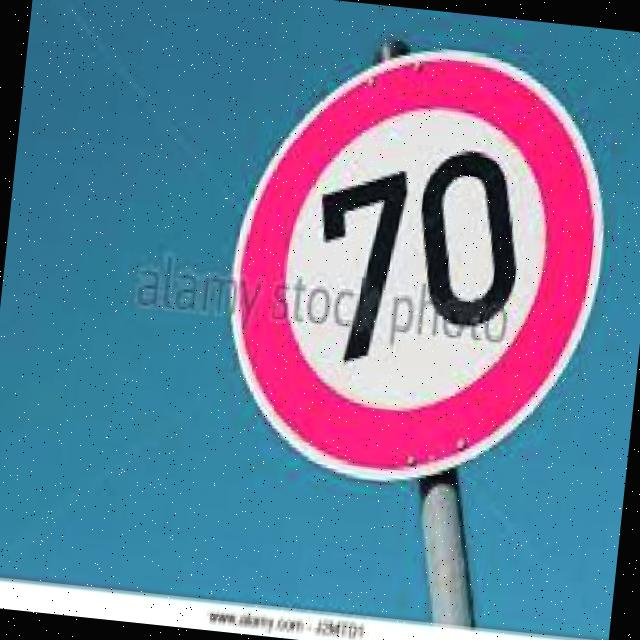Ograniczenie predkosci do 70: (230, 55, 588, 454)
